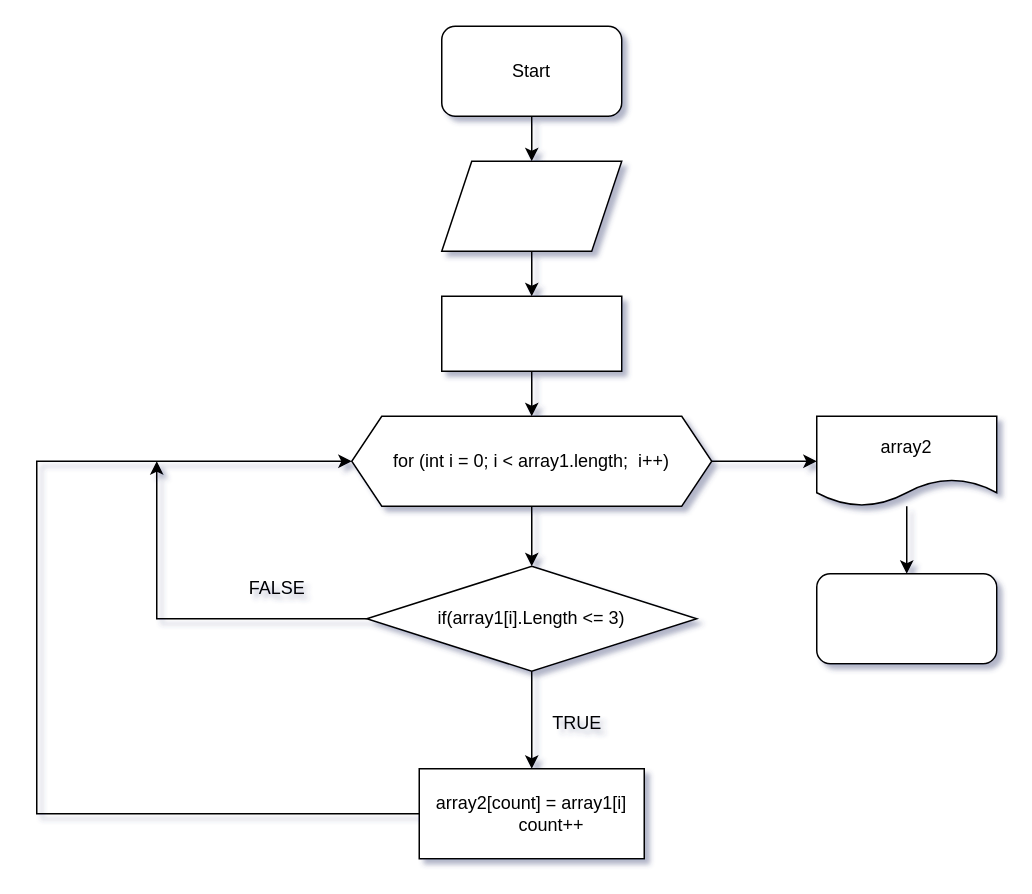
Some shapes in this 1032 by 894 pixel diagram are drawn without their labels. The centre of each missing label's shape, as x and y in pixels:
"Finish" goes at point 906,618.
"int count = 0" goes at point 531,333.
"string[] array1 string[] array2" goes at point 531,205.
